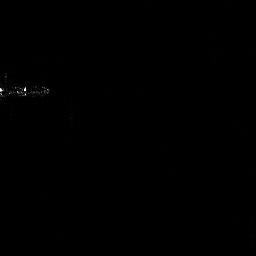ship: (1, 81, 53, 100)
